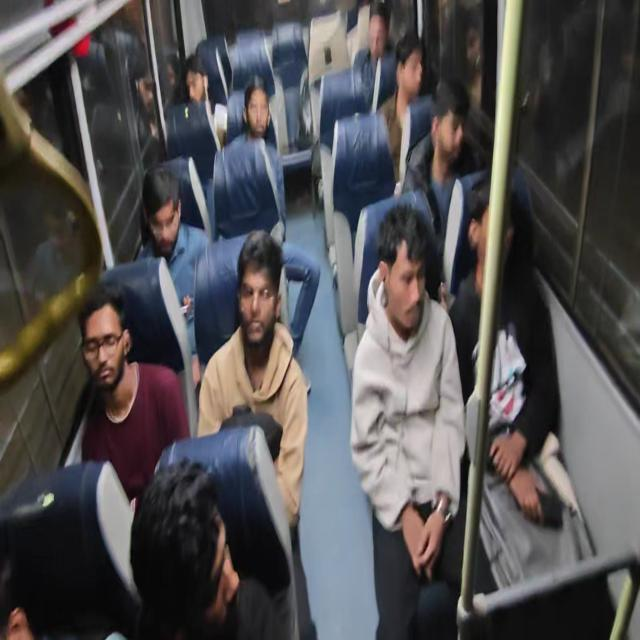person: (450, 167, 526, 363), (0, 436, 68, 640), (162, 459, 231, 612), (136, 166, 204, 308), (92, 280, 153, 426), (212, 253, 270, 365), (178, 50, 204, 172), (392, 36, 427, 126), (243, 80, 284, 156), (432, 91, 468, 177), (377, 215, 409, 296), (363, 0, 397, 52)
